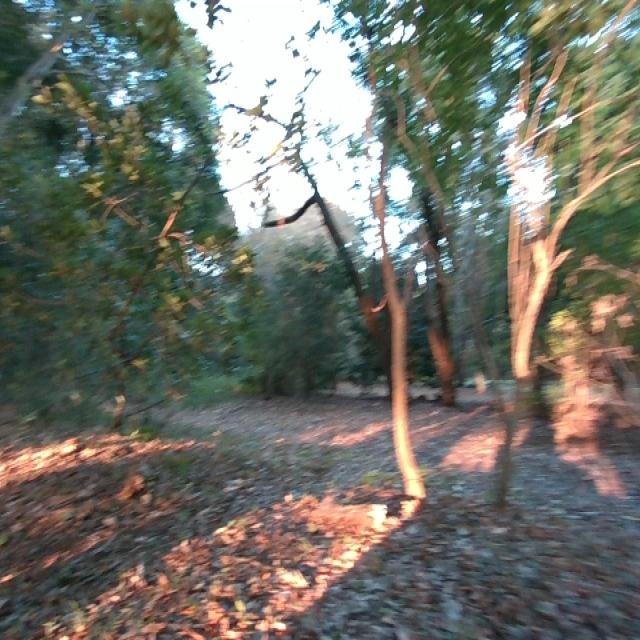bush: (0, 115, 256, 469)
tree: (482, 14, 625, 508), (314, 117, 434, 511)
